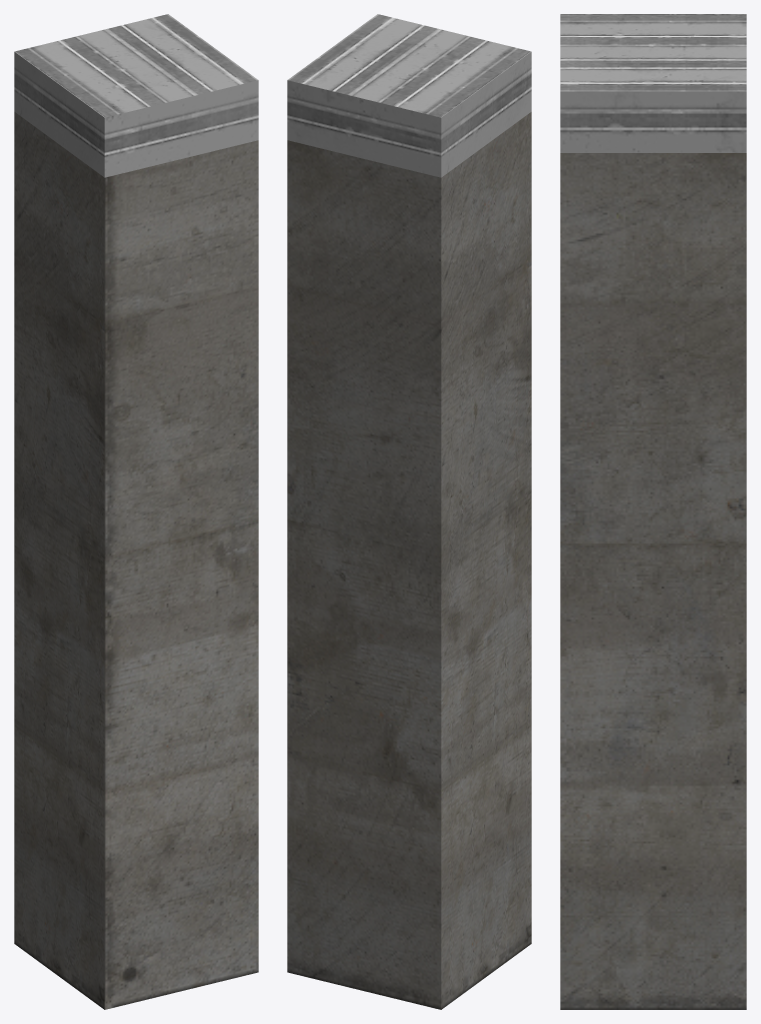
The model's file is CP_Parapet_C_Angle_In.fbx.
The picture shows the model from 3 angles, left to right: view 1: azimuth 30°, elevation 25°; view 2: azimuth 150°, elevation 25°; view 3: azimuth 270°, elevation 25°; orthographic projection. The views are drawn at different scales.
Visible parts, largest first — view 1: CP_Parapet_C_Angle_In; view 2: CP_Parapet_C_Angle_In; view 3: CP_Parapet_C_Angle_In.
Boxes of the visible parts, x1,y1,x2,y2 form: CP_Parapet_C_Angle_In: (14,14,258,1009); CP_Parapet_C_Angle_In: (287,14,531,1009); CP_Parapet_C_Angle_In: (560,14,746,1009).
Size of the model in its own units: 31.54 by 175 by 32.08.
